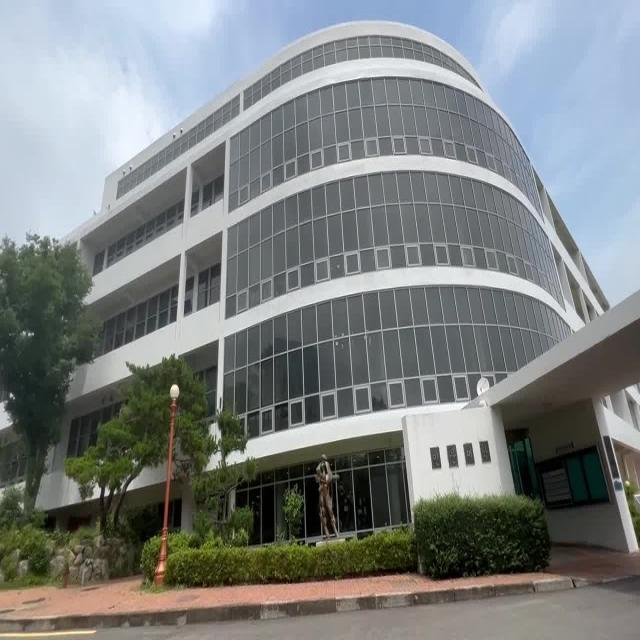building: (237, 35, 529, 483)
